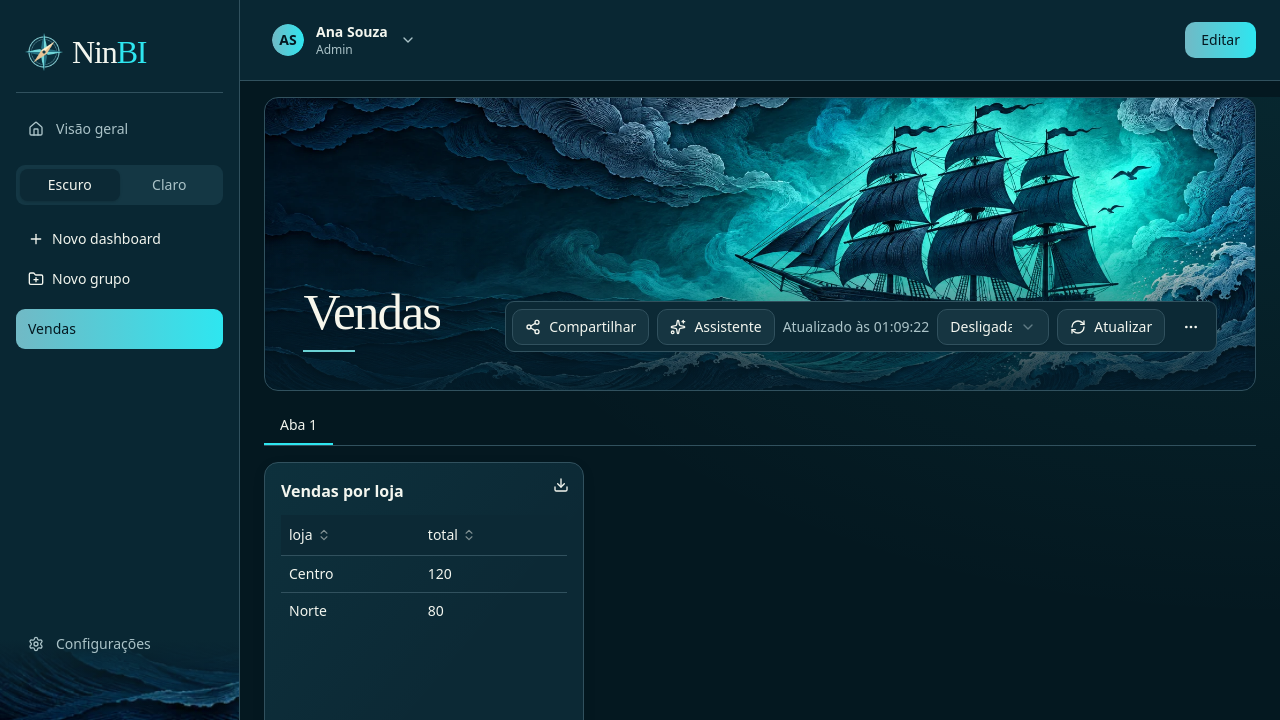
DashboardPage com compartilhamento › SHARE-01 Compartilhar aparece só para o dono e Admins
Expected: the heading "Vendas" is shown, [303,283,440,352]
Click the button "Compartilhar": (581, 327) [512,309,649,345]
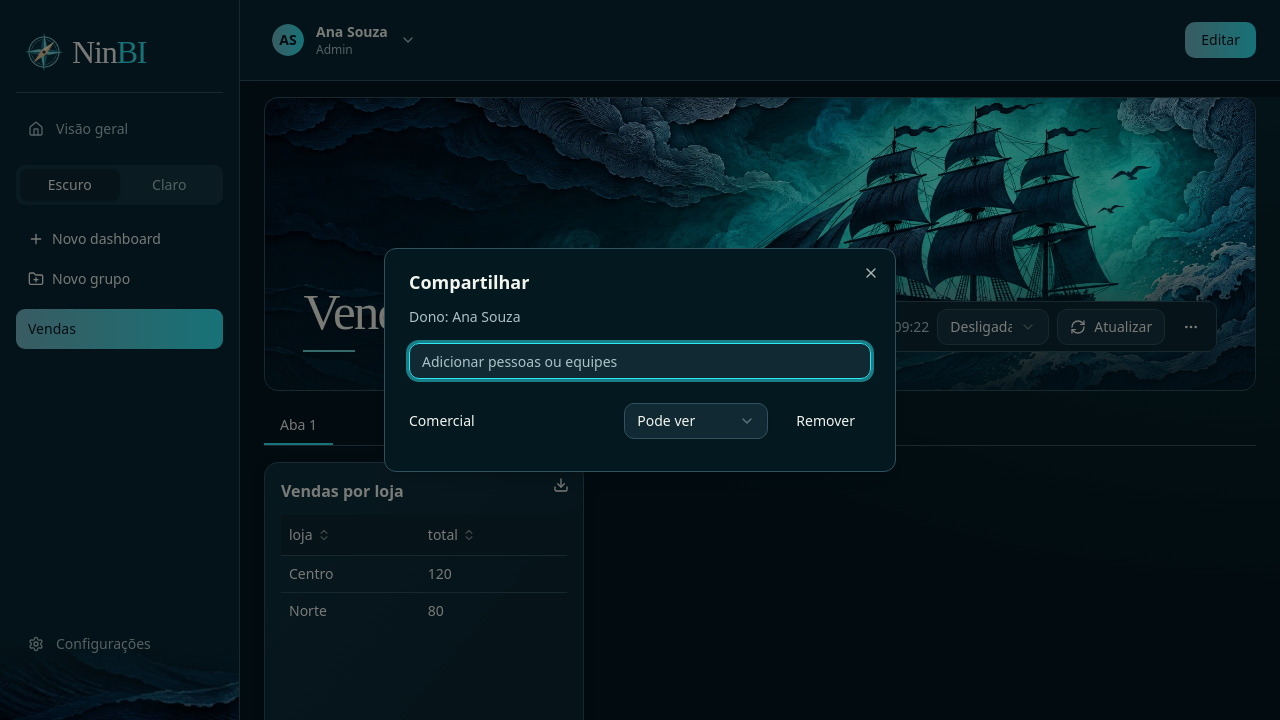
Expected: the text "Dono: Ana Souza" is shown, [409,307,520,326]
Expected: the text "Comercial" is shown, [409,411,475,431]
